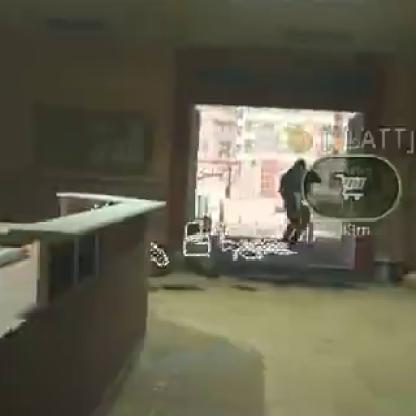enemy: (275, 158, 320, 248)
